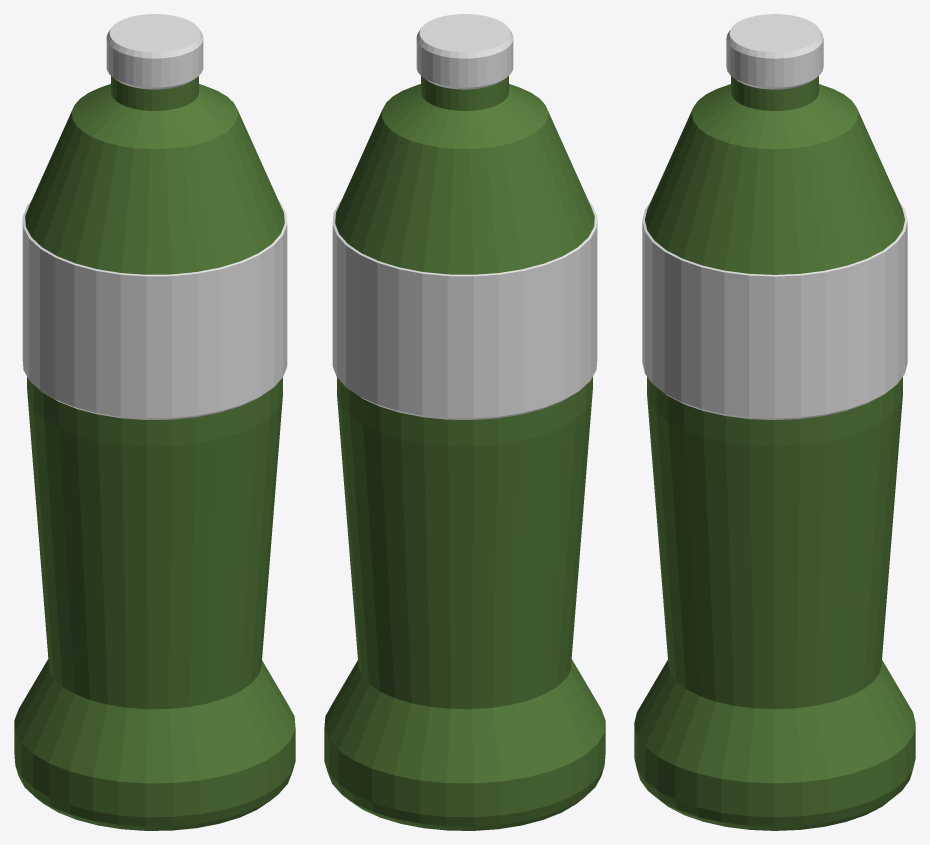
File: Plastic1.fbx
3 renders of one model, left to right at view 1: azimuth 30°, elevation 25°; view 2: azimuth 150°, elevation 25°; view 3: azimuth 270°, elevation 25°, orthographic.
Parts seen in each view (by area): view 1: Cylinder; view 2: Cylinder; view 3: Cylinder.
Part boxes in pixels (x1=…): Cylinder: x1=14, y1=14, x2=295, y2=830; Cylinder: x1=324, y1=14, x2=605, y2=830; Cylinder: x1=634, y1=14, x2=915, y2=830.
Bounding box in the file's own units: 200 × 585 × 200.
